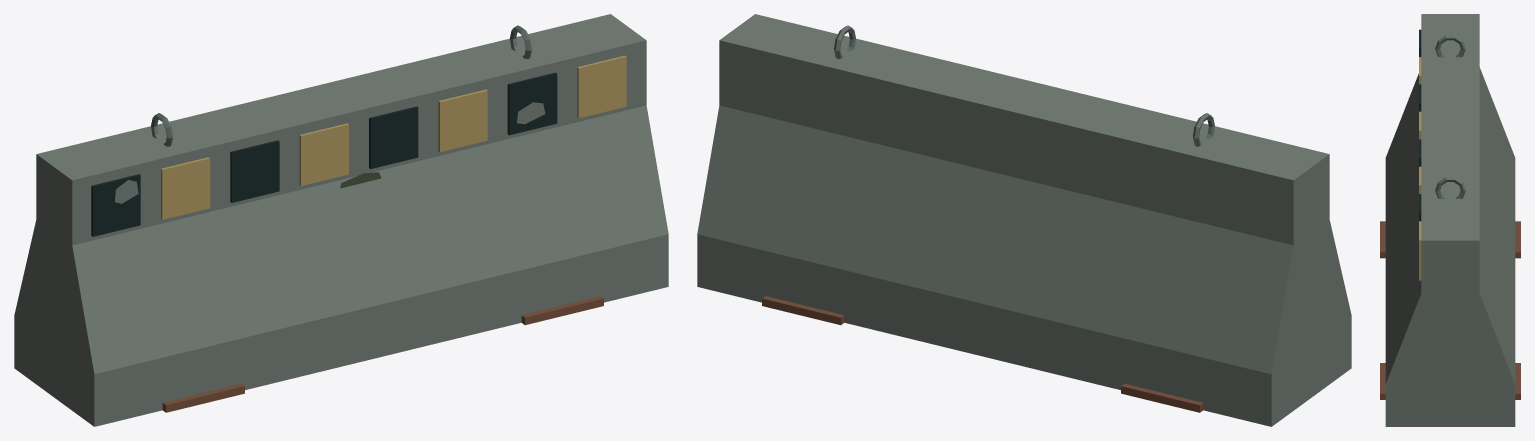
File: v115-yard-road-barrier.glb
3 views of the same model, side by side, from view 1: azimuth 30°, elevation 25°; view 2: azimuth 150°, elevation 25°; view 3: azimuth 270°, elevation 25° (orthographic). The views are drawn at different scales.
Visible parts, largest first — view 1: road-barrier; view 2: road-barrier; view 3: road-barrier.
Boxes of the visible parts, bbox=[...] form: road-barrier: bbox=[14, 14, 668, 426]; road-barrier: bbox=[697, 14, 1351, 426]; road-barrier: bbox=[1380, 14, 1520, 426].
Size of the model in its own units: 2.4 by 1.02 by 0.63.
